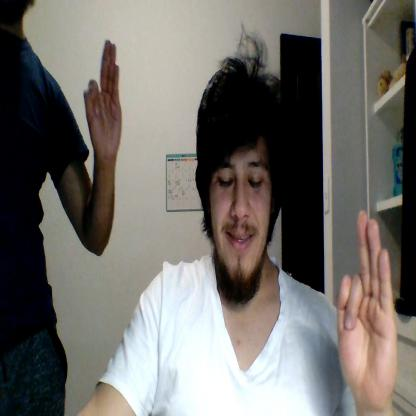F: (337, 210, 397, 406), (82, 38, 122, 159)
